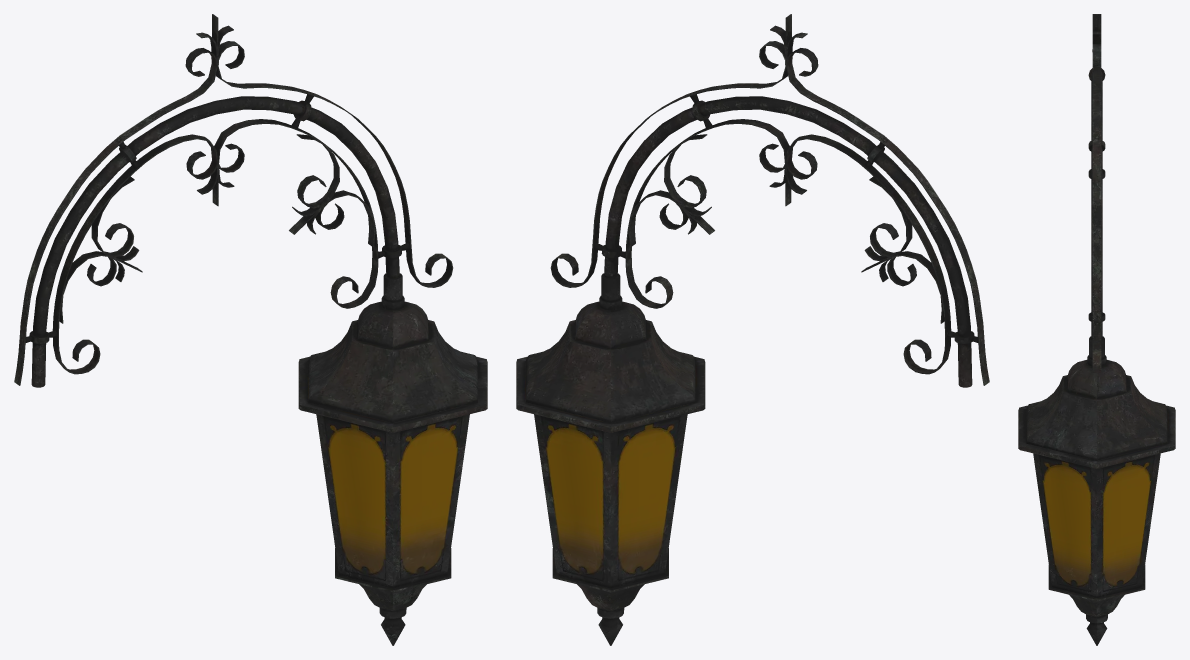
File: lantern.glb
3 views of the same model, side by side, from view 1: azimuth 30°, elevation 25°; view 2: azimuth 150°, elevation 25°; view 3: azimuth 270°, elevation 25° (orthographic). The views are drawn at different scales.
Parts seen in each view (by area): view 1: Lat01_low_lambert1_0; view 2: Lat01_low_lambert1_0; view 3: Lat01_low_lambert1_0.
Boxes of the visible parts, x1=… form: Lat01_low_lambert1_0: x1=14, y1=14, x2=487, y2=645; Lat01_low_lambert1_0: x1=516, y1=14, x2=989, y2=645; Lat01_low_lambert1_0: x1=1018, y1=14, x2=1175, y2=645.
Size of the model in its own units: 104 by 141 by 36.02.
1 material, 1 textured.
